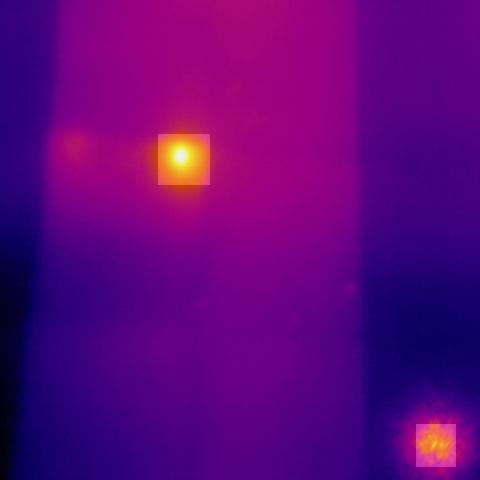fault: (158, 134, 210, 185), (416, 424, 456, 467)
